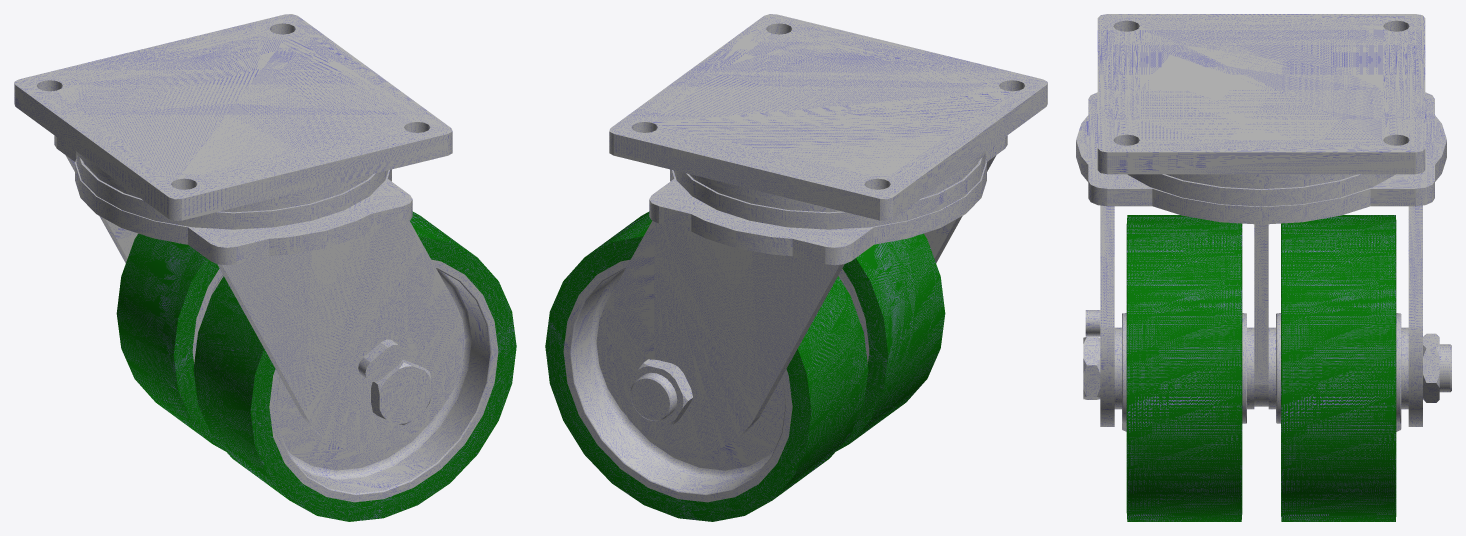
File: caster83DH.dae
3 views of the same model, side by side, from view 1: azimuth 30°, elevation 25°; view 2: azimuth 150°, elevation 25°; view 3: azimuth 270°, elevation 25° (orthographic).
Visible parts, largest first — view 1: CNS_92_1281528917, CNS_94_1281528917, CNS_93_1281528917, CNS_97_1281528918, CNS_101_1281528918; view 2: CNS_92_1281528917, CNS_97_1281528918, CNS_96_1281528917, CNS_94_1281528917, CNS_101_1281528918, CNS_102_1281528918; view 3: CNS_92_1281528917, CNS_94_1281528917, CNS_97_1281528918, CNS_101_1281528918, CNS_96_1281528917, CNS_102_1281528918, CNS_93_1281528917, CNS_100_1281528918, CNS_99_1281528918, CNS_103_1281528918, CNS_104_1281528918.
Part boxes in pixels (bbox=[...]): CNS_92_1281528917: bbox=[14, 14, 465, 451]; CNS_94_1281528917: bbox=[193, 211, 516, 521]; CNS_93_1281528917: bbox=[269, 259, 498, 502]; CNS_97_1281528918: bbox=[116, 233, 225, 451]; CNS_101_1281528918: bbox=[371, 360, 431, 425]; CNS_92_1281528917: bbox=[596, 14, 1047, 451]; CNS_97_1281528918: bbox=[545, 211, 868, 521]; CNS_96_1281528917: bbox=[563, 259, 792, 502]; CNS_94_1281528917: bbox=[836, 233, 945, 451]; CNS_101_1281528918: bbox=[630, 372, 677, 421]; CNS_102_1281528918: bbox=[628, 359, 692, 424]; CNS_92_1281528917: bbox=[1076, 14, 1446, 426]; CNS_94_1281528917: bbox=[1126, 215, 1242, 521]; CNS_97_1281528918: bbox=[1281, 215, 1396, 521]; CNS_101_1281528918: bbox=[1083, 337, 1451, 399]; CNS_96_1281528917: bbox=[1276, 313, 1401, 431]; CNS_102_1281528918: bbox=[1423, 333, 1439, 402]; CNS_93_1281528917: bbox=[1122, 313, 1246, 431]; CNS_100_1281528918: bbox=[1401, 327, 1408, 409]; CNS_99_1281528918: bbox=[1114, 327, 1121, 409]; CNS_103_1281528918: bbox=[1247, 327, 1254, 409]; CNS_104_1281528918: bbox=[1268, 327, 1275, 409].
Size of the model in its own units: 10.75 by 9.75 by 11.
